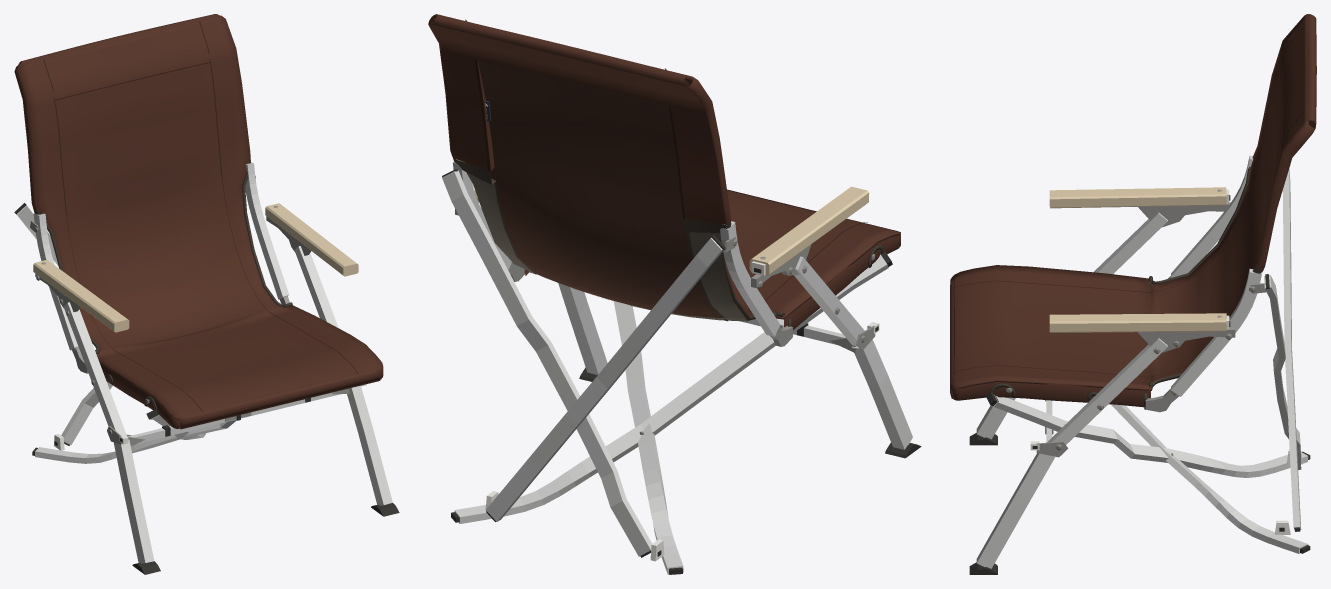
File: snowpeak-low-chair-30.glb
3 views of the same model, side by side, from view 1: azimuth 30°, elevation 25°; view 2: azimuth 150°, elevation 25°; view 3: azimuth 270°, elevation 25° (orthographic). The views are drawn at different scales.
Parts seen in each view (by area): view 1: snowpeak-low-chair-30-cloth, snowpeak-low-chair-30-frame, snowpeak-low-chair-30-bamboo, snowpeak-low-chair-30-metal, snowpeak-low-chair-30-stitch, snowpeak-low-chair-30-trim, snowpeak-low-chair-30-pad; view 2: snowpeak-low-chair-30-center, snowpeak-low-chair-30-frame, snowpeak-low-chair-30-cloth, snowpeak-low-chair-30-panel, snowpeak-low-chair-30-bamboo, snowpeak-low-chair-30-metal, snowpeak-low-chair-30-trim, snowpeak-low-chair-30-stitch, snowpeak-low-chair-30-pad, snowpeak-low-chair-30-chrome; view 3: snowpeak-low-chair-30-cloth, snowpeak-low-chair-30-frame, snowpeak-low-chair-30-bamboo, snowpeak-low-chair-30-metal, snowpeak-low-chair-30-pad, snowpeak-low-chair-30-stitch, snowpeak-low-chair-30-trim, snowpeak-low-chair-30-chrome.
Part boxes in pixels (bbox=[...]): snowpeak-low-chair-30-cloth: bbox=[14, 14, 383, 429]; snowpeak-low-chair-30-frame: bbox=[15, 162, 392, 563]; snowpeak-low-chair-30-bamboo: bbox=[33, 203, 358, 332]; snowpeak-low-chair-30-metal: bbox=[30, 205, 349, 446]; snowpeak-low-chair-30-stitch: bbox=[43, 21, 358, 412]; snowpeak-low-chair-30-trim: bbox=[33, 157, 292, 353]; snowpeak-low-chair-30-pad: bbox=[14, 203, 399, 574]; snowpeak-low-chair-30-center: bbox=[477, 60, 721, 317]; snowpeak-low-chair-30-frame: bbox=[442, 159, 912, 574]; snowpeak-low-chair-30-cloth: bbox=[428, 14, 900, 329]; snowpeak-low-chair-30-panel: bbox=[466, 172, 747, 321]; snowpeak-low-chair-30-bamboo: bbox=[472, 183, 869, 275]; snowpeak-low-chair-30-metal: bbox=[455, 198, 875, 352]; snowpeak-low-chair-30-trim: bbox=[453, 158, 784, 321]; snowpeak-low-chair-30-stitch: bbox=[465, 19, 867, 312]; snowpeak-low-chair-30-pad: bbox=[442, 169, 921, 574]; snowpeak-low-chair-30-chrome: bbox=[485, 261, 879, 561]; snowpeak-low-chair-30-cloth: bbox=[950, 14, 1316, 407]; snowpeak-low-chair-30-frame: bbox=[976, 155, 1308, 568]; snowpeak-low-chair-30-bamboo: bbox=[1049, 187, 1226, 332]; snowpeak-low-chair-30-metal: bbox=[1036, 189, 1267, 457]; snowpeak-low-chair-30-pad: bbox=[969, 195, 1310, 574]; snowpeak-low-chair-30-stitch: bbox=[951, 26, 1305, 377]; snowpeak-low-chair-30-trim: bbox=[1149, 166, 1265, 388]; snowpeak-low-chair-30-chrome: bbox=[1030, 189, 1302, 534].
Bounding box in the file's own units: 0.58 × 0.86 × 0.65.
